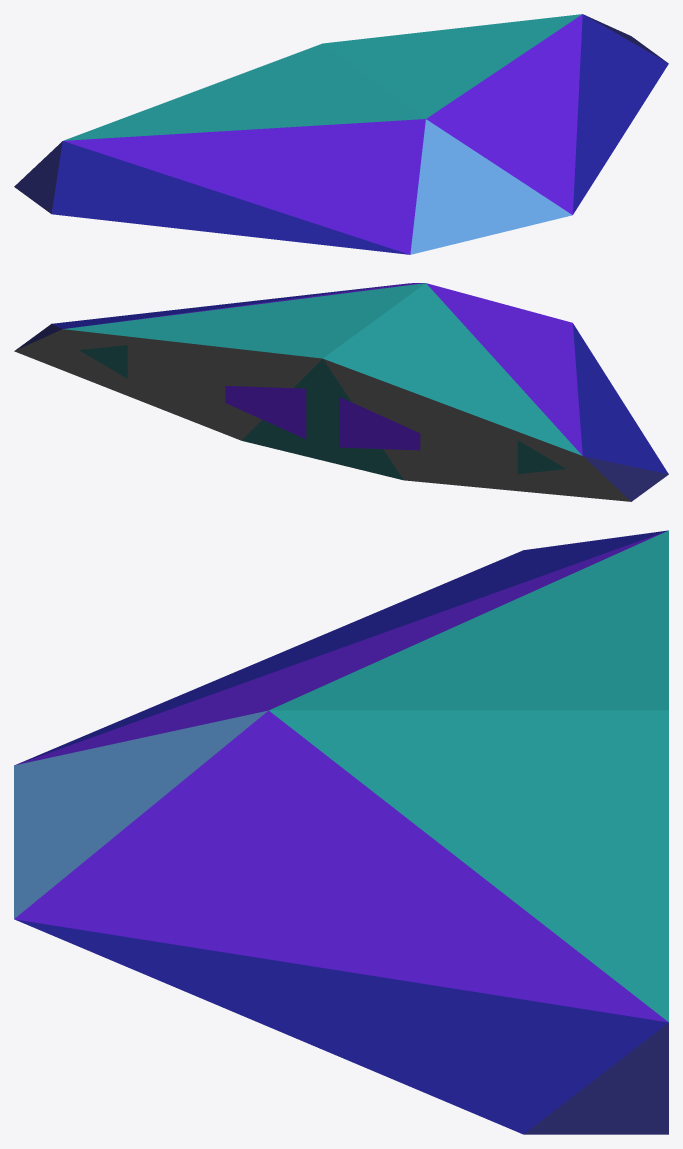
Rendered from arc_cobra_mk3.glb.
3 renders of one model, top to bottom at view 1: azimuth 30°, elevation 25°; view 2: azimuth 150°, elevation 25°; view 3: azimuth 270°, elevation 25°, orthographic. The views are drawn at different scales.
Parts seen in each view (by area): view 1: griff_arcelite_cobra3; view 2: griff_arcelite_cobra3, griff_arcelite_cobra3.002, griff_arcelite_cobra3.003, griff_arcelite_cobra3.004, griff_arcelite_cobra3.001; view 3: griff_arcelite_cobra3.
Boxes of the visible parts, x1,y1,x2,y2 form: griff_arcelite_cobra3: (14,14,668,254); griff_arcelite_cobra3: (14,283,668,501); griff_arcelite_cobra3.002: (225,386,306,439); griff_arcelite_cobra3.003: (339,396,420,450); griff_arcelite_cobra3.004: (517,440,565,473); griff_arcelite_cobra3.001: (79,345,127,378); griff_arcelite_cobra3: (14,530,668,1134).
Size of the model in its own units: 1.39 by 0.219 by 0.657.
1 material, 1 textured.
